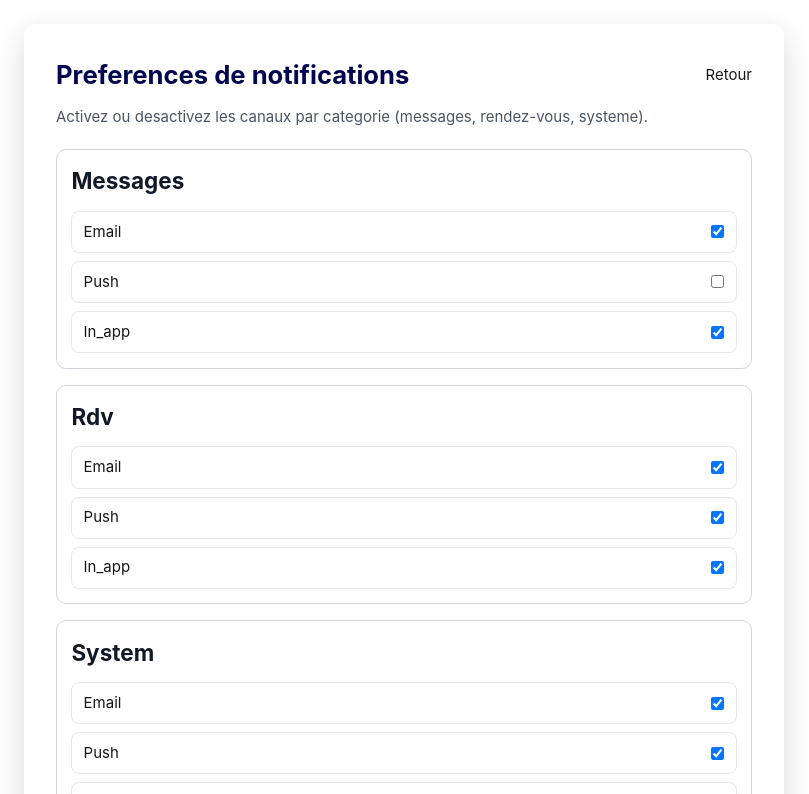
it: NotificationPreferencesForm › loads preferences and saves updated values with success feedback
Check: the heading "Preferences de notifications" is shown, box [56,56,409,94]
Click the checkbox named "messages-email".
click(718, 232)  # box [711,225,724,238]
(page scrolled)
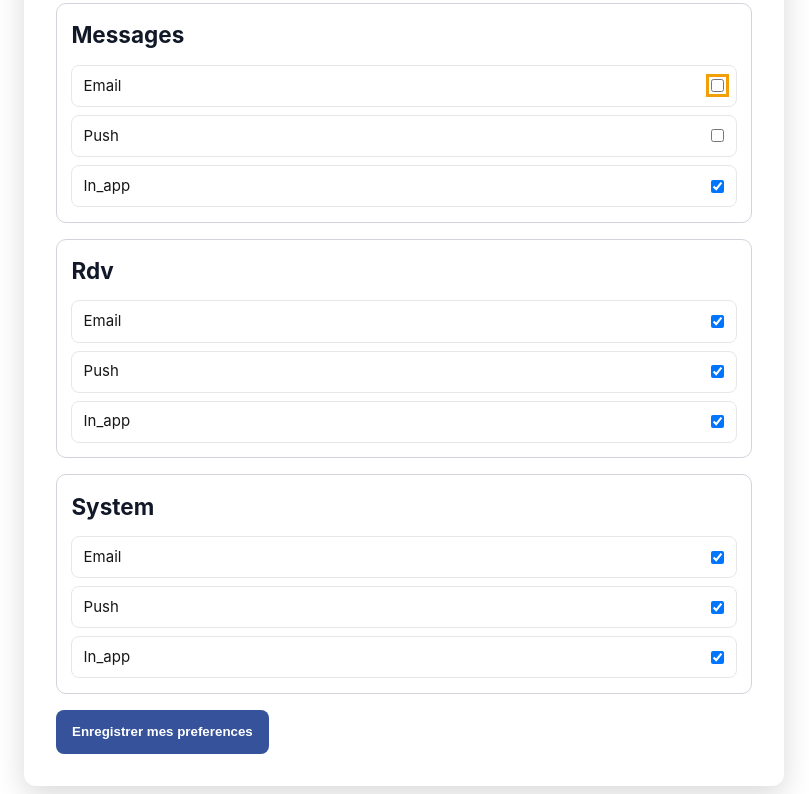
Click the button "Enregistrer mes preferences".
click(162, 732)  # box [56,710,269,754]
(page scrolled)
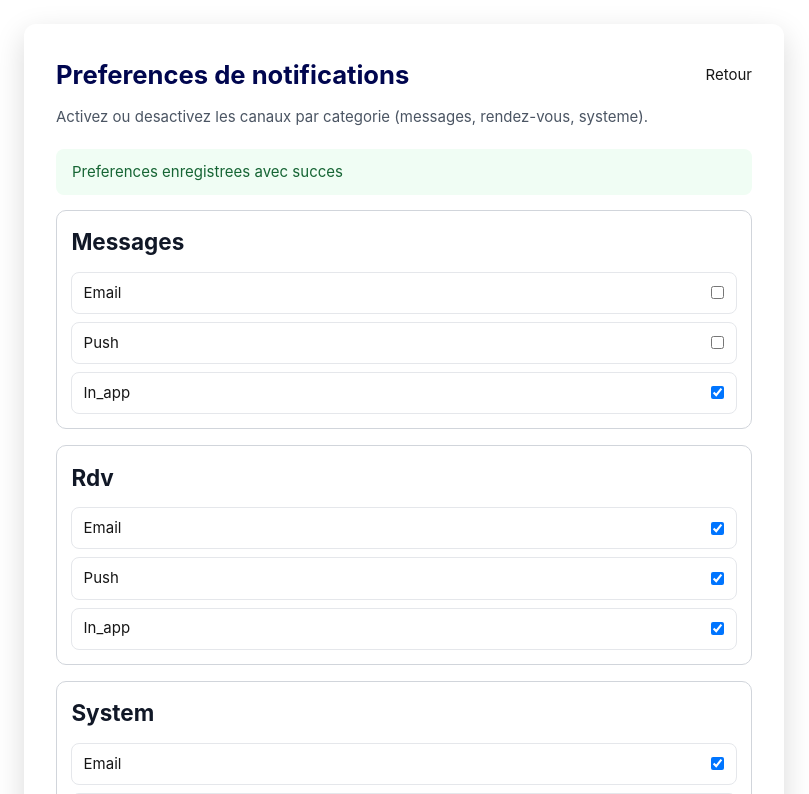
Check: the text "Preferences enregistrees avec succes" is shown, box [56,149,752,195]
